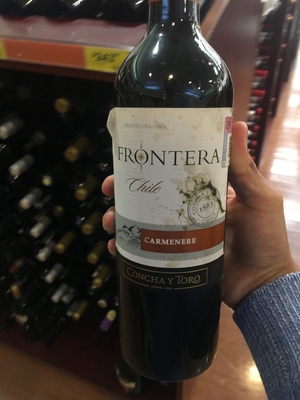frontera carmenere: (102, 17, 247, 371)
